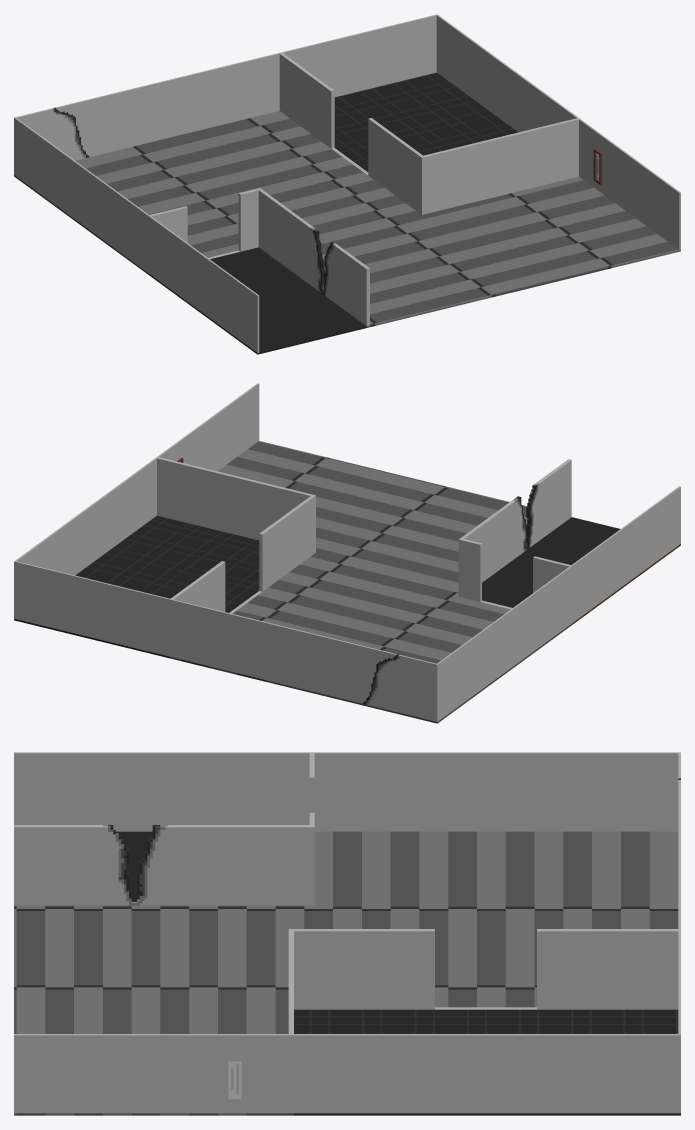
File: Test-salle1.obj
3 renders of one model, top to bottom at view 1: azimuth 30°, elevation 25°; view 2: azimuth 150°, elevation 25°; view 3: azimuth 270°, elevation 25°, orthographic. The views are drawn at different scales.
Bounding box in the file's own units: 25.6 × 3.4 × 25.5.
1 material, 1 textured.
